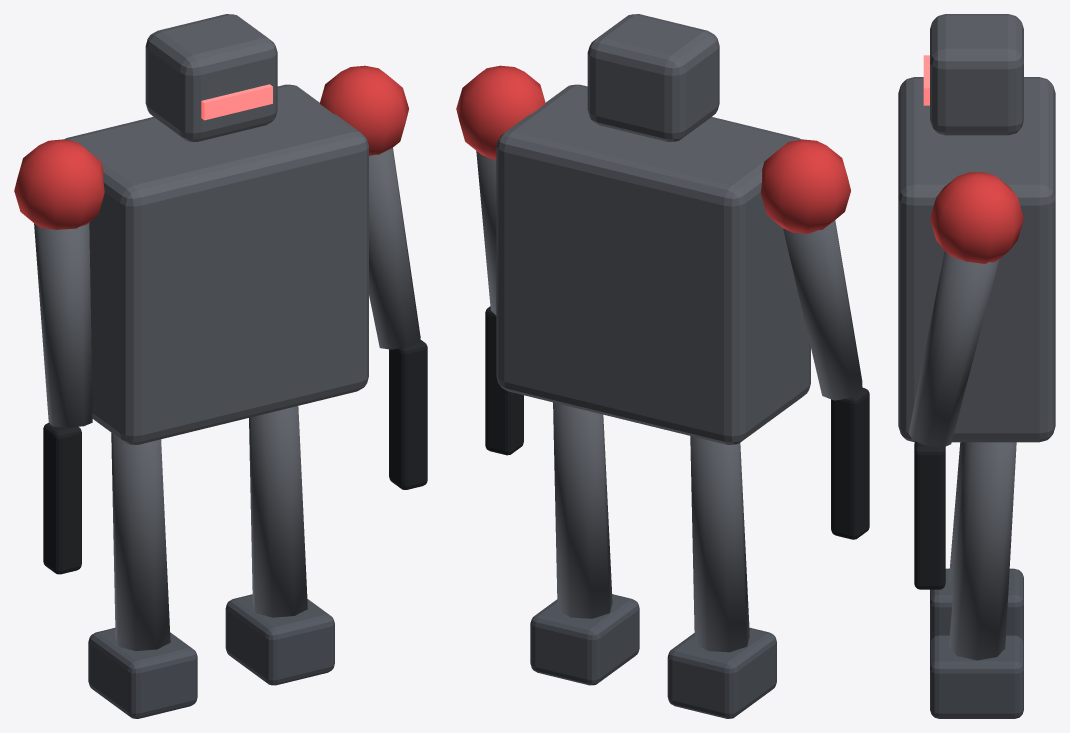
Rendered from android_guard_mech.glb.
3 views of the same model, side by side, from view 1: azimuth 30°, elevation 25°; view 2: azimuth 150°, elevation 25°; view 3: azimuth 270°, elevation 25° (orthographic).
Parts seen in each view (by area): view 1: GD_android_guard_mech__m1, GD_android_guard_mech__m0, GD_android_guard_mech__m4, GD_android_guard_mech__m3, GD_android_guard_mech__m2; view 2: GD_android_guard_mech__m1, GD_android_guard_mech__m0, GD_android_guard_mech__m4, GD_android_guard_mech__m3; view 3: GD_android_guard_mech__m1, GD_android_guard_mech__m0, GD_android_guard_mech__m4, GD_android_guard_mech__m3, GD_android_guard_mech__m2.
Boxes of the visible parts, box(x1,y1,x2,y2) form: GD_android_guard_mech__m1: box(34, 14, 420, 650); GD_android_guard_mech__m0: box(88, 594, 334, 718); GD_android_guard_mech__m4: box(14, 65, 408, 229); GD_android_guard_mech__m3: box(43, 339, 427, 574); GD_android_guard_mech__m2: box(201, 84, 272, 120); GD_android_guard_mech__m1: box(476, 14, 862, 652); GD_android_guard_mech__m0: box(530, 594, 776, 718); GD_android_guard_mech__m4: box(456, 65, 850, 233); GD_android_guard_mech__m3: box(485, 306, 869, 539); GD_android_guard_mech__m1: box(898, 14, 1055, 660); GD_android_guard_mech__m0: box(930, 568, 1023, 718); GD_android_guard_mech__m4: box(930, 172, 1023, 263); GD_android_guard_mech__m3: box(914, 441, 945, 589); GD_android_guard_mech__m2: box(923, 55, 929, 105).
Size of the model in its own units: 1.39 by 2.25 by 0.5.
